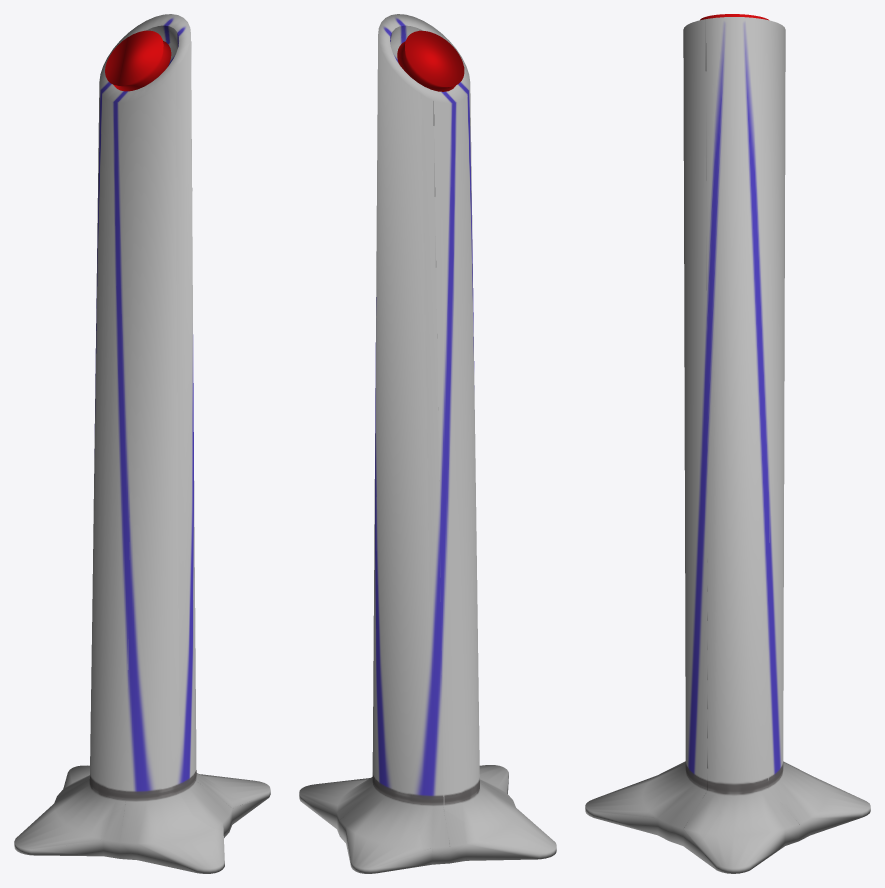
Rendered from Button.fbx.
3 renders of one model, left to right at view 1: azimuth 30°, elevation 25°; view 2: azimuth 150°, elevation 25°; view 3: azimuth 270°, elevation 25°, orthographic. The views are drawn at different scales.
Visible parts, largest first — view 1: Cylinder, Cylinder.001; view 2: Cylinder, Cylinder.001; view 3: Cylinder.
Boxes of the visible parts, x1=… form: Cylinder: x1=14, y1=14, x2=270, y2=873; Cylinder.001: x1=105, y1=30, x2=171, y2=91; Cylinder: x1=299, y1=14, x2=556, y2=873; Cylinder.001: x1=397, y1=30, x2=464, y2=91; Cylinder: x1=585, y1=17, x2=870, y2=873.
Size of the model in its own units: 270 by 816 by 258.
